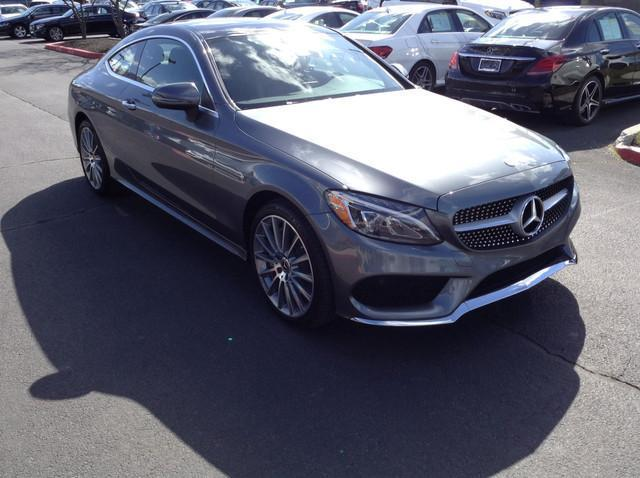C300Coupe: (66, 8, 590, 331)
